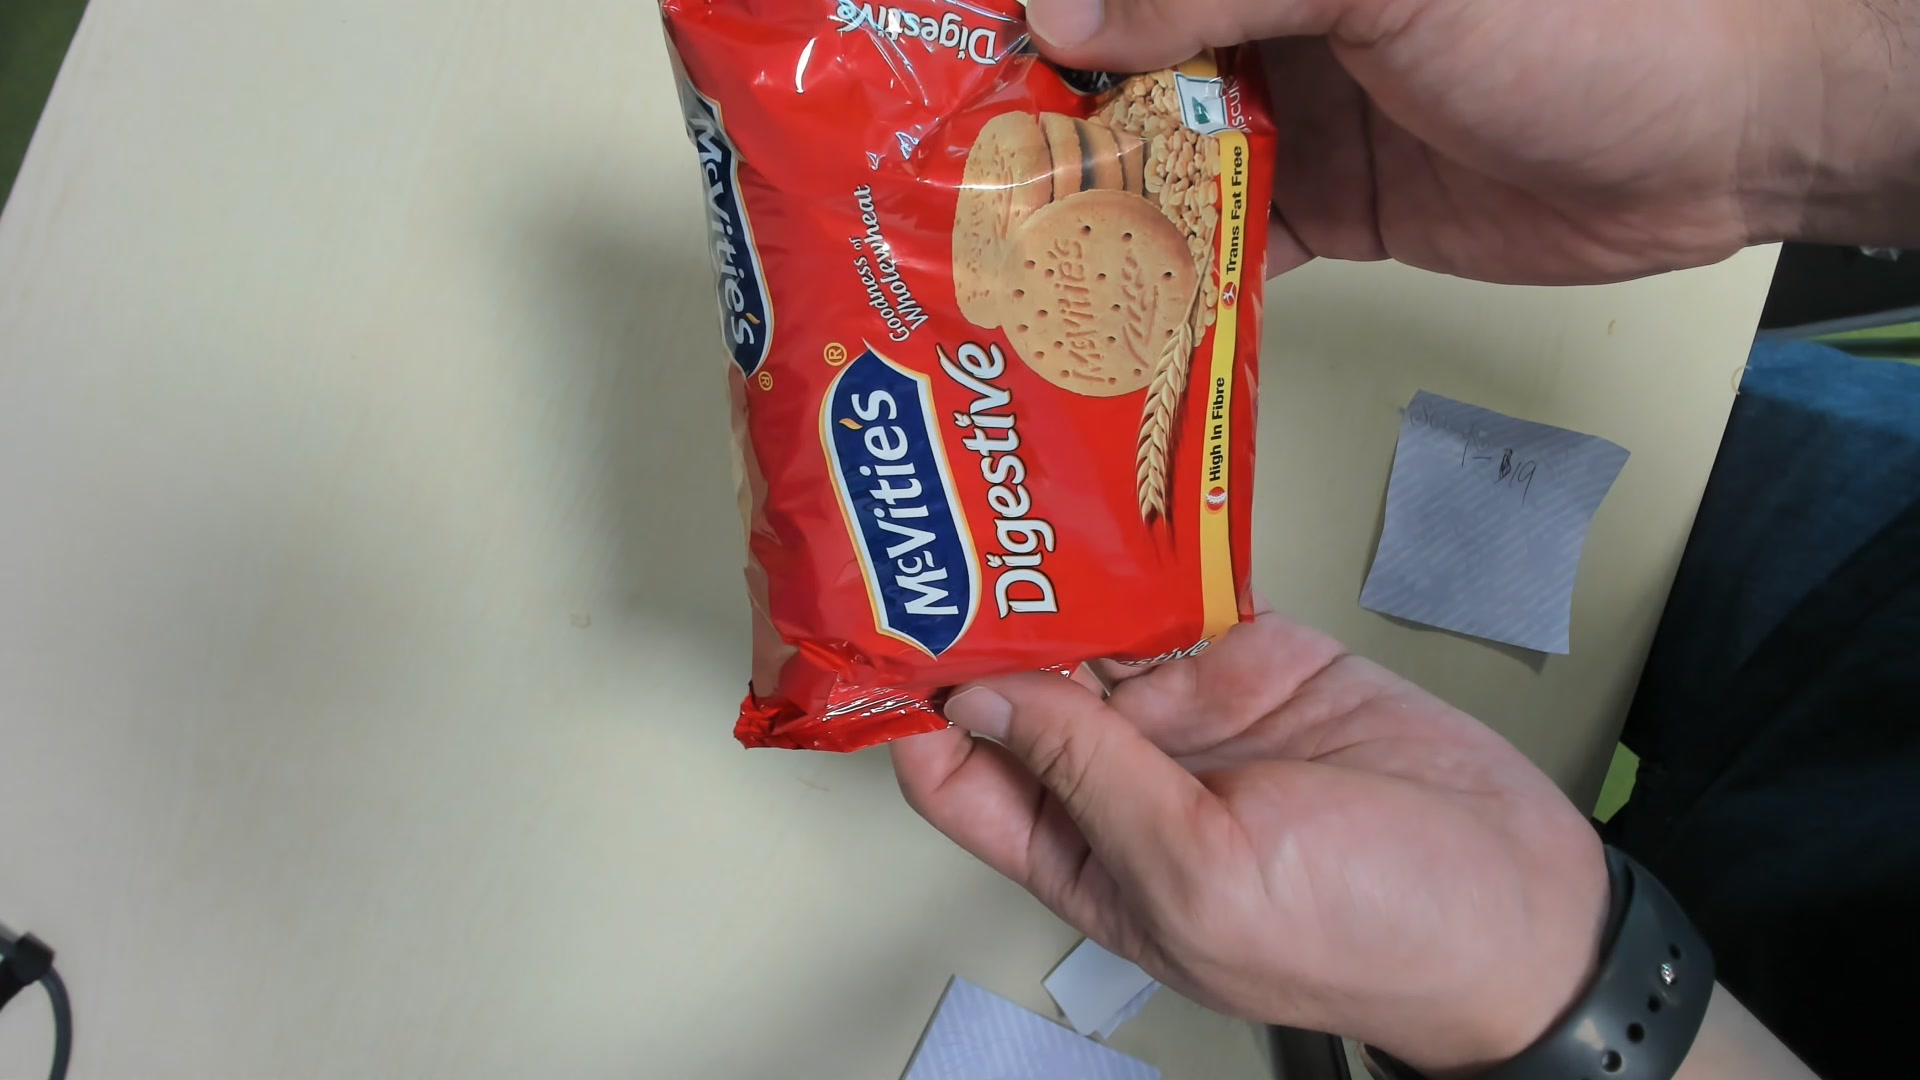BiscuitsCrackersCookies_200-299g_NonHalal_NonHealthy: (650, 1, 1279, 766)
